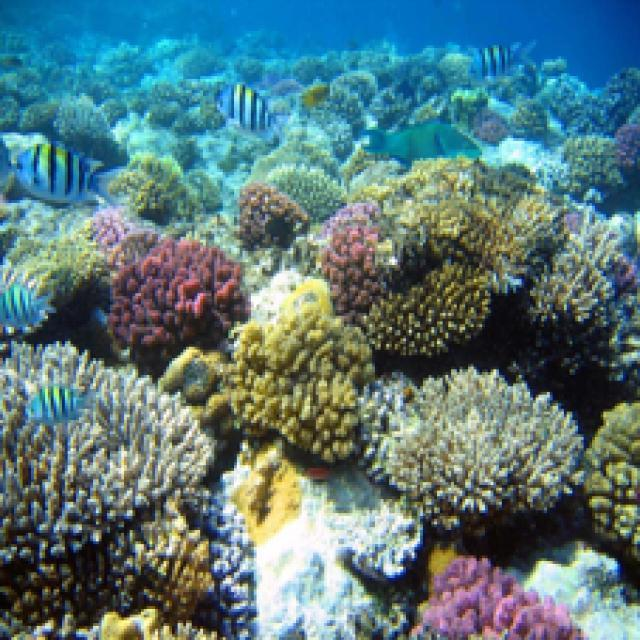Healthy: (384, 376, 586, 525), (3, 353, 196, 498), (225, 323, 372, 466), (112, 250, 248, 359), (395, 176, 542, 271), (119, 508, 218, 616), (533, 232, 636, 332), (379, 275, 489, 355), (422, 572, 557, 637), (593, 399, 640, 554), (4, 228, 103, 294), (328, 212, 390, 312), (244, 450, 297, 541), (121, 152, 195, 211), (564, 140, 626, 202), (240, 189, 305, 247)
